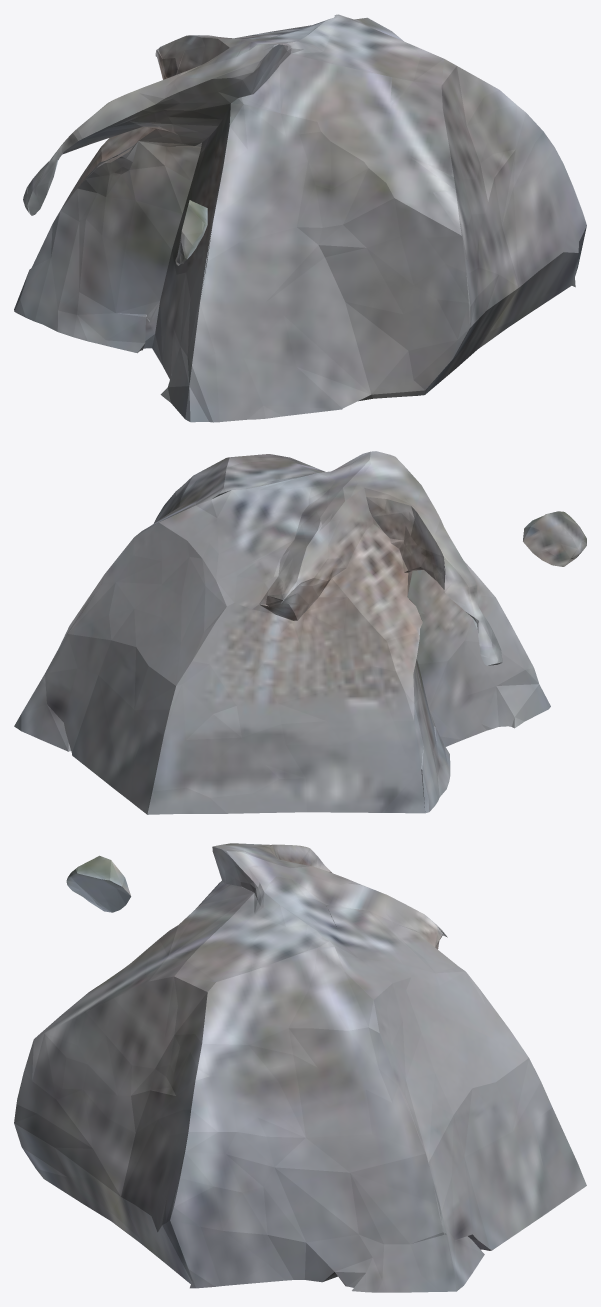
3 views of the same model, one above another, from view 1: azimuth 30°, elevation 25°; view 2: azimuth 150°, elevation 25°; view 3: azimuth 270°, elevation 25° (orthographic). The views are drawn at different scales.
Bounding box in the file's own units: 1.13 × 0.6586 × 1.14.
Materials: 1 (1 with a texture image).
